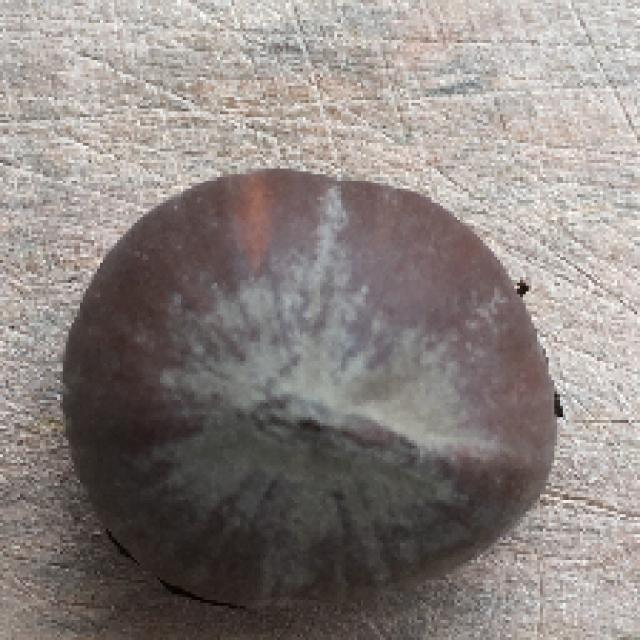damagedHazelnut: (57, 170, 560, 599)
